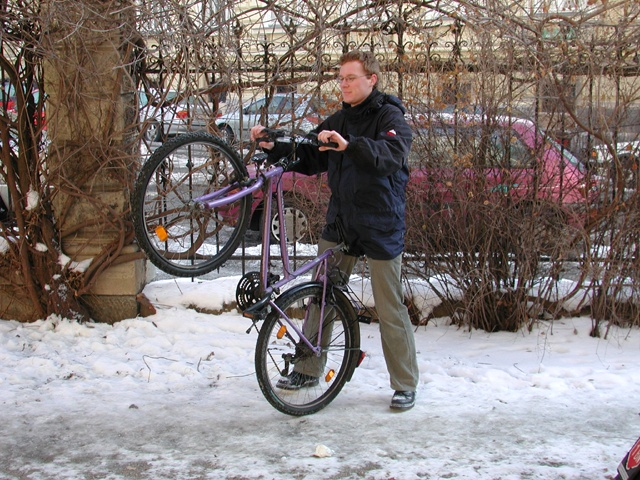person: (299, 46, 418, 397)
